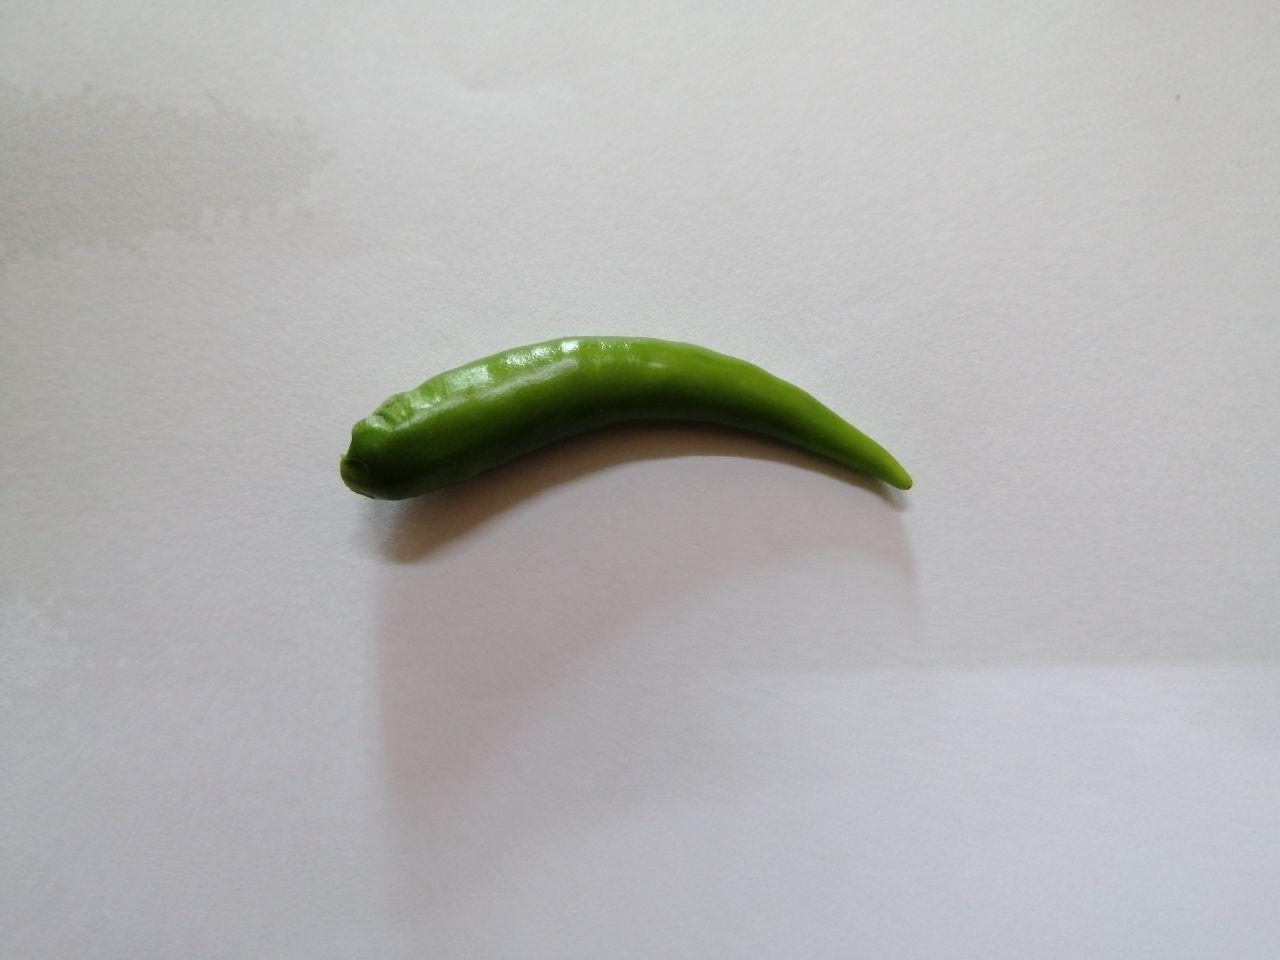lada hijau: (325, 319, 927, 527)
